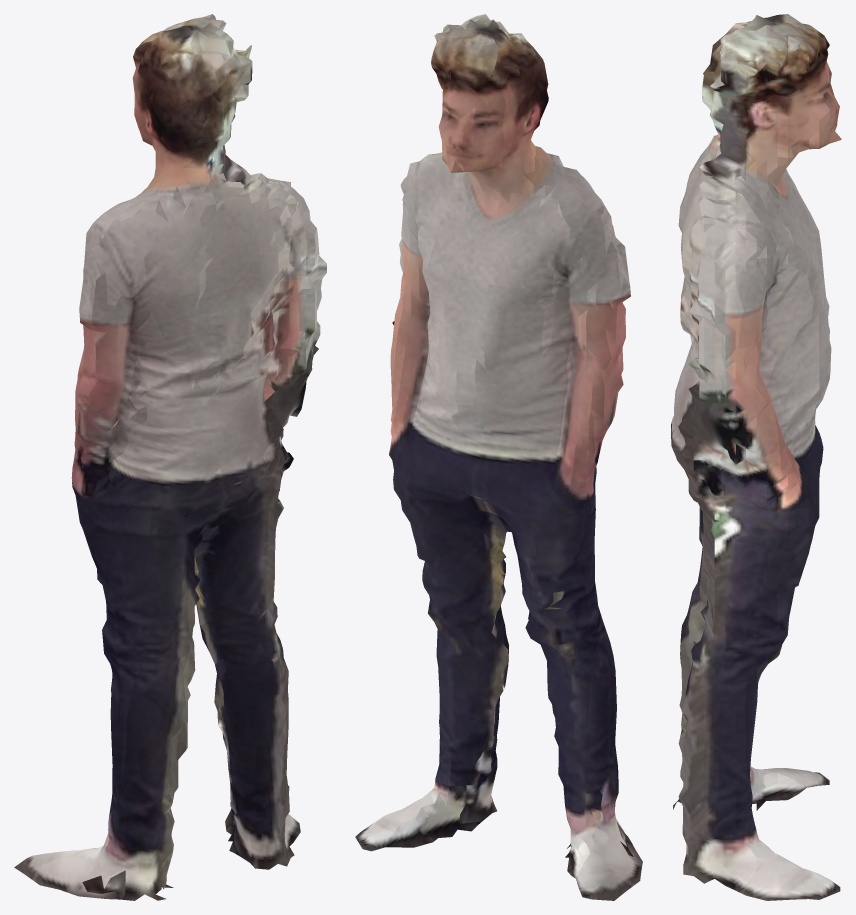
Rendered from pieter.glb.
3 renders of one model, left to right at view 1: azimuth 30°, elevation 25°; view 2: azimuth 150°, elevation 25°; view 3: azimuth 270°, elevation 25°, orthographic.
Parts seen in each view (by area): view 1: Object_4, Object_7, Object_6, Object_9, Object_2; view 2: Object_3, Object_7, Object_4, Object_2, Object_9, Object_6; view 3: Object_7, Object_4, Object_3, Object_9, Object_6, Object_2.
Part boxes in pixels (x1,y1,x2,y2): Object_4: (71,182,320,900); Object_7: (79,14,326,899); Object_6: (171,86,319,747); Object_9: (81,14,326,889); Object_2: (14,814,300,899); Object_3: (390,146,621,833); Object_7: (386,14,633,878); Object_4: (389,162,630,857); Object_2: (355,788,642,900); Object_9: (391,25,630,855); Object_6: (460,508,511,550); Object_7: (678,14,841,890); Object_4: (671,136,813,878); Object_3: (736,158,831,795); Object_9: (676,23,829,885); Object_6: (671,68,752,675); Object_2: (735,768,840,900).
Size of the model in its own units: 0.5894 by 1.76 by 0.3267.
6 materials, 6 textured.
